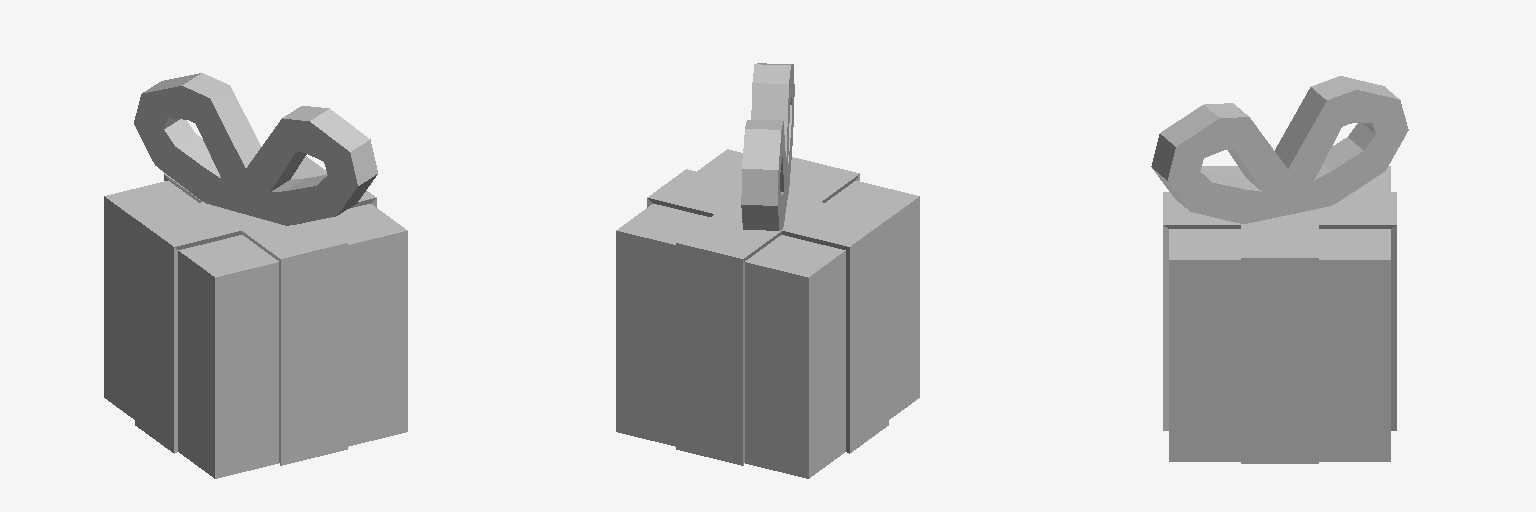
File: present.obj
The picture shows the model from 3 angles: view 1: azimuth 30°, elevation 25°; view 2: azimuth 150°, elevation 25°; view 3: azimuth 270°, elevation 25°; orthographic projection.
Parts seen in each view (by area): view 1: Cube, Cube.001; view 2: Cube, Cube.001; view 3: Cube, Cube.001.
Part boxes in pixels (left/top/right/bottom): Cube: left=104, top=156, right=407, bottom=478; Cube.001: left=134, top=73, right=377, bottom=225; Cube: left=616, top=149, right=919, bottom=478; Cube.001: left=741, top=63, right=794, bottom=230; Cube: left=1163, top=166, right=1396, bottom=463; Cube.001: left=1151, top=76, right=1408, bottom=223.
Size of the model in its own units: 2.1 by 3.15 by 2.32.